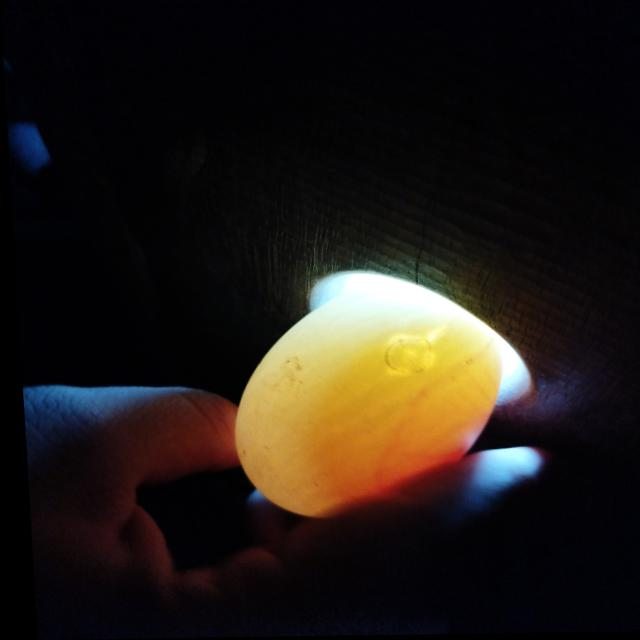Rachadura: (381, 341, 426, 375)
